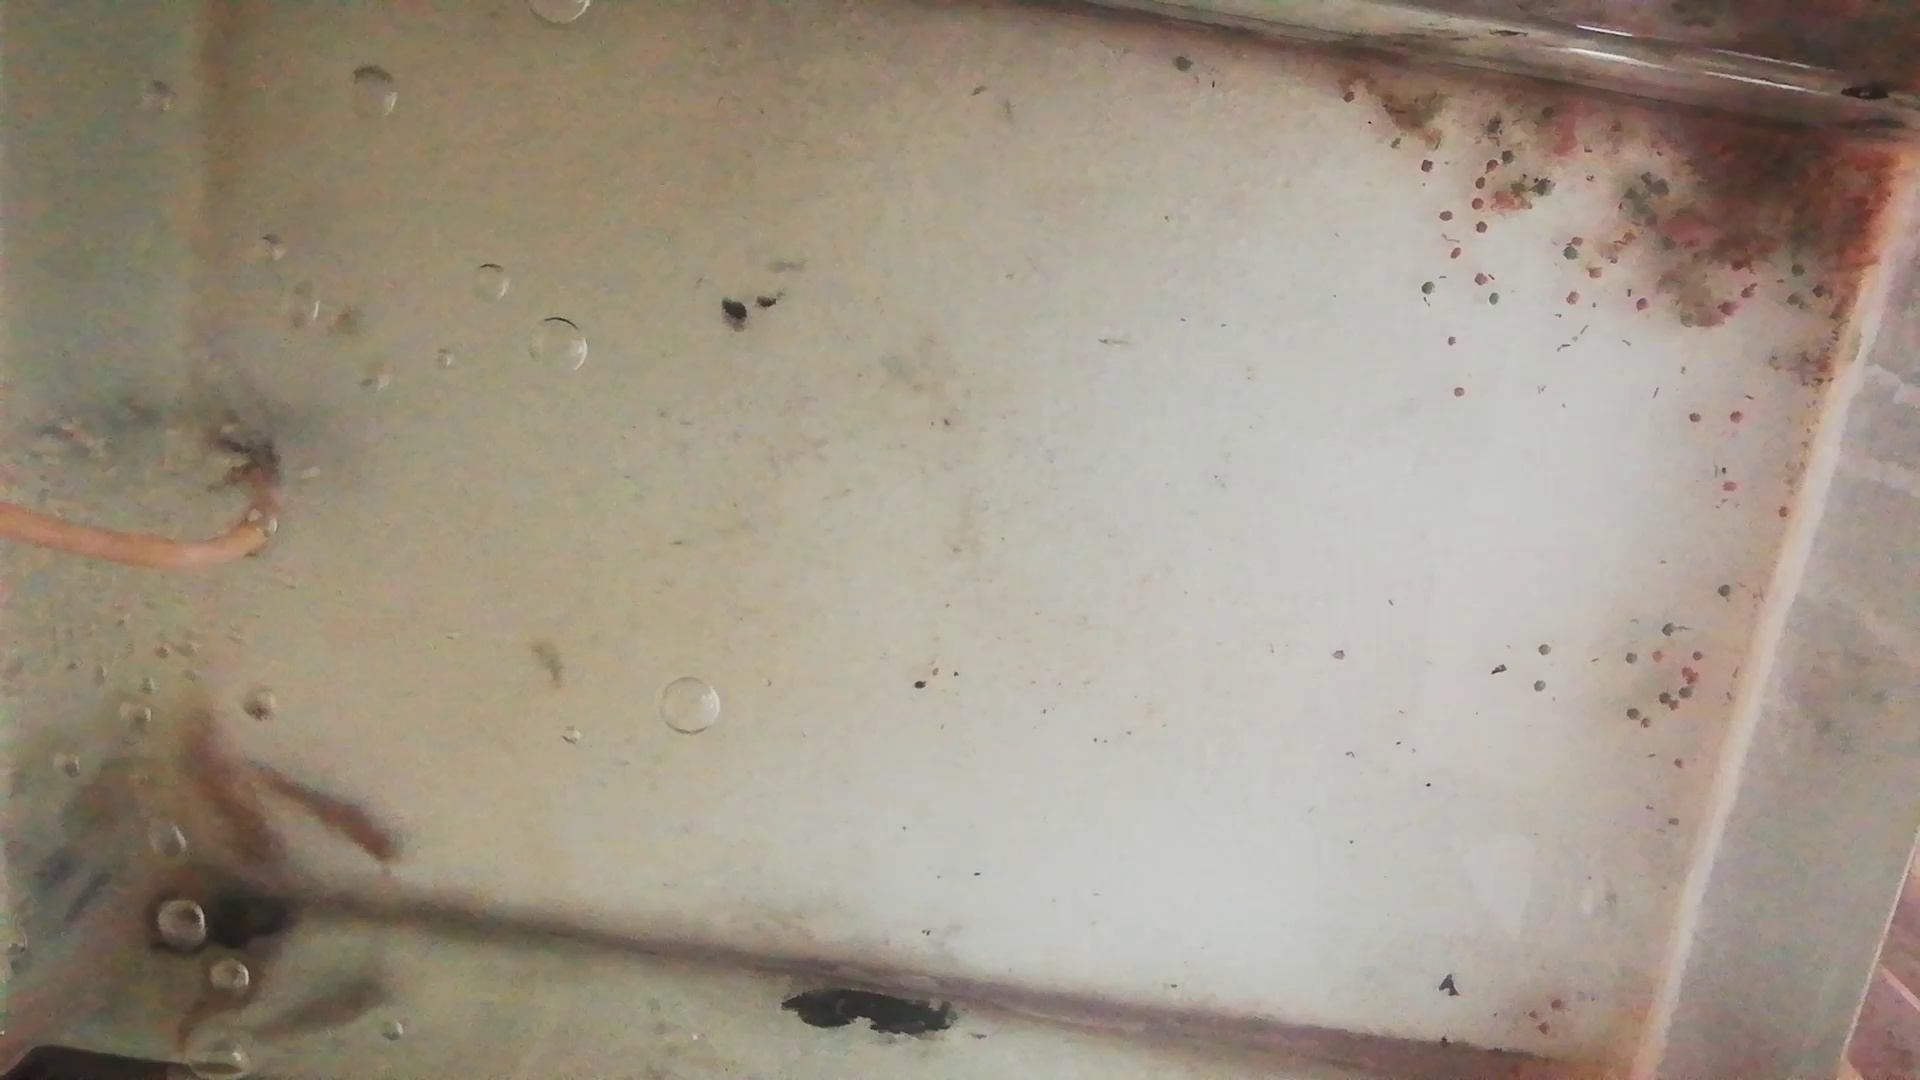fish: (257, 762, 417, 870), (174, 713, 286, 858)
